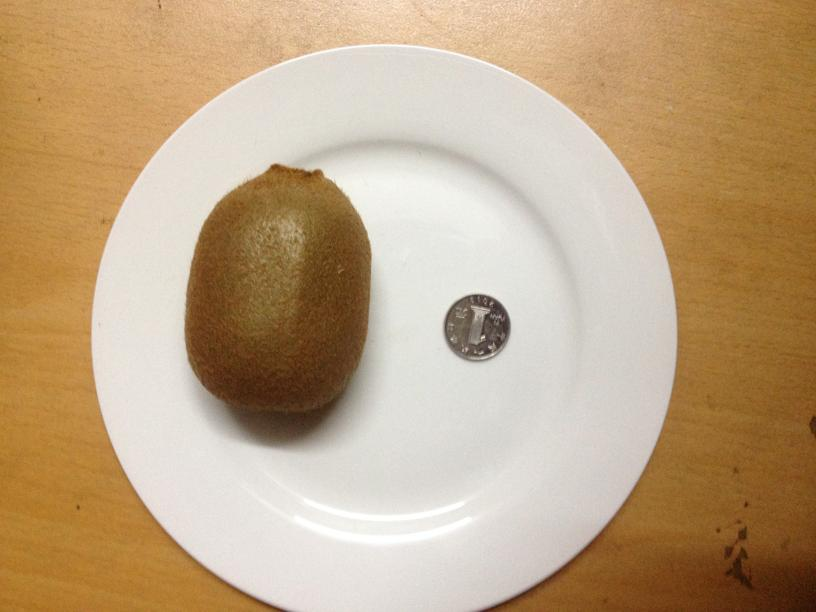coin: (442, 291, 509, 361)
qiwi: (181, 166, 372, 411)
